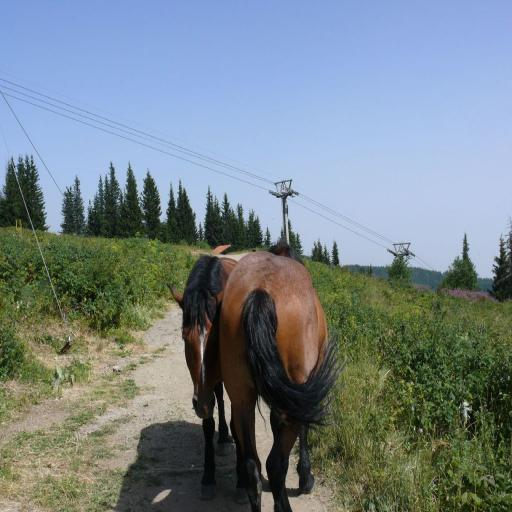horse: (216, 236, 348, 512), (164, 254, 250, 508)
